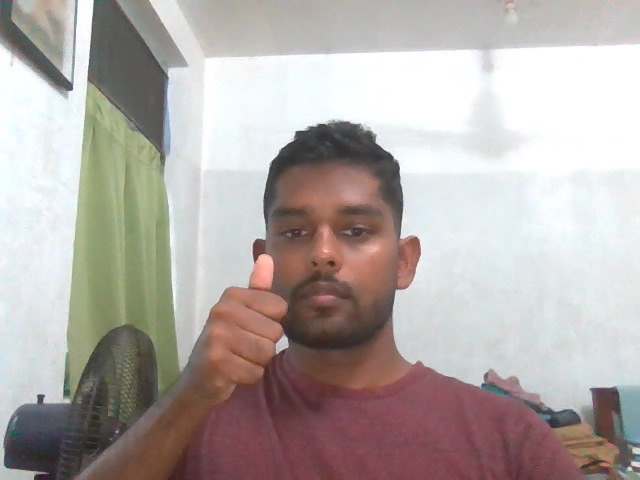good.: (171, 245, 288, 403)
